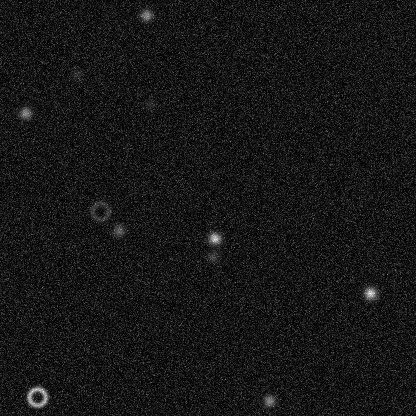Ring: (88, 199, 112, 223), (25, 384, 49, 408)
Spot: (110, 222, 126, 238), (204, 248, 220, 264), (17, 105, 33, 121), (68, 66, 84, 82), (362, 285, 378, 301), (138, 7, 154, 23), (142, 95, 158, 111), (261, 392, 277, 408), (206, 230, 222, 246)
